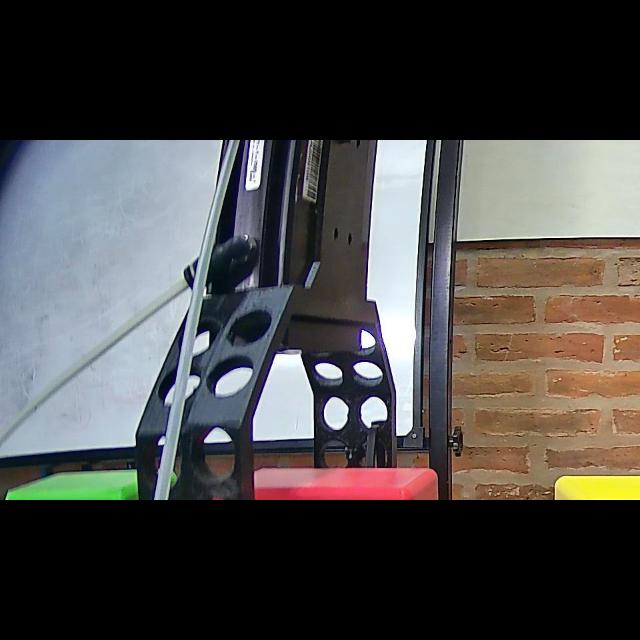greenBox: (1, 470, 185, 500)
redBox: (208, 460, 442, 500)
yellowBox: (548, 466, 640, 499)
